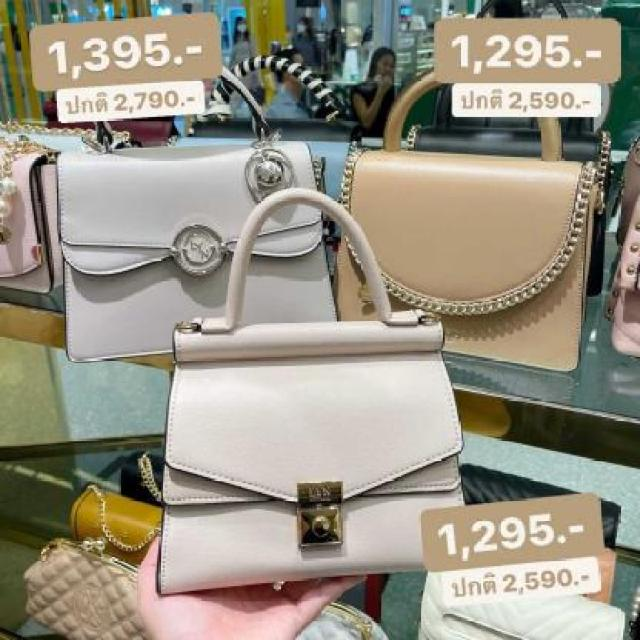Bag: (126, 125, 505, 628), (32, 48, 348, 400), (308, 48, 621, 402)
